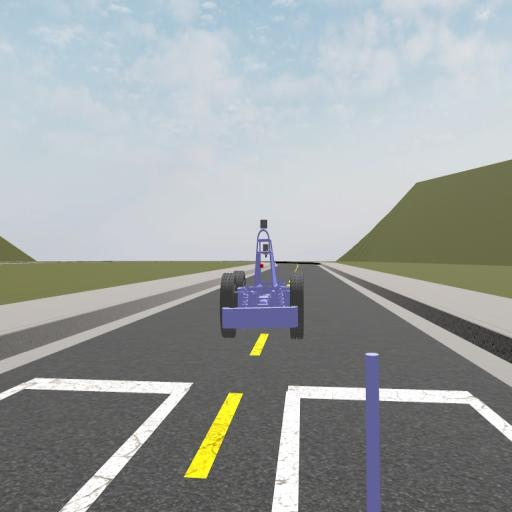ERP-42: (219, 219, 304, 339)
